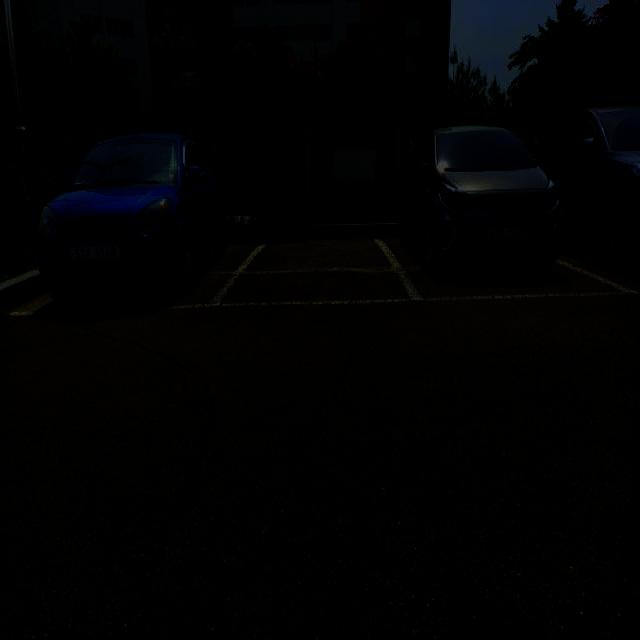empty: (220, 234, 408, 298)
occupied: (33, 132, 237, 313), (399, 122, 563, 276), (538, 96, 639, 281)
